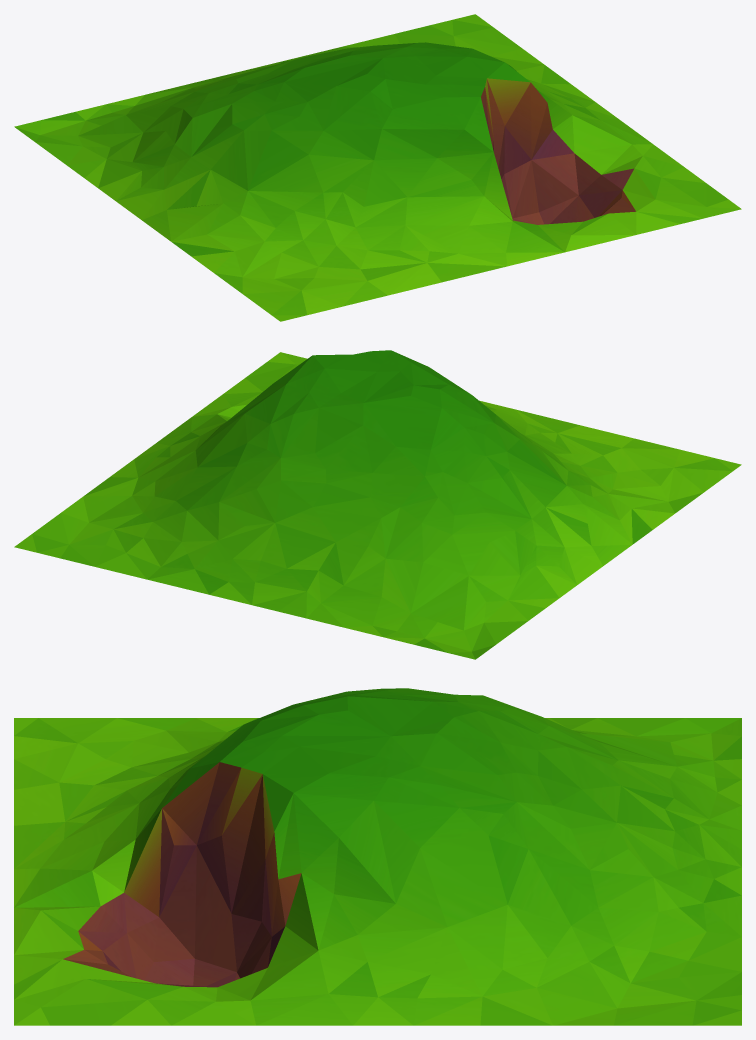
The model's file is GL-Terrain-part-01-LOD3.fbx.
The picture shows the model from 3 angles, top to bottom: view 1: azimuth 30°, elevation 25°; view 2: azimuth 150°, elevation 25°; view 3: azimuth 270°, elevation 25°; orthographic projection. The views are drawn at different scales.
Parts seen in each view (by area): view 1: GL_Terrain_part_01; view 2: GL_Terrain_part_01; view 3: GL_Terrain_part_01.
Part boxes in pixels (bbox=[...]): GL_Terrain_part_01: bbox=[14, 14, 741, 321]; GL_Terrain_part_01: bbox=[14, 350, 741, 659]; GL_Terrain_part_01: bbox=[14, 688, 741, 1025].
Size of the model in its own units: 18 by 5.85 by 18.
